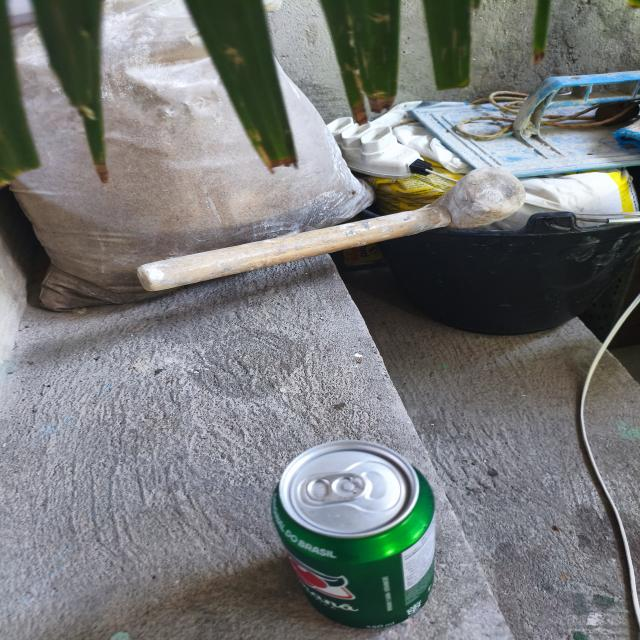Guarana: (262, 417, 458, 640)
